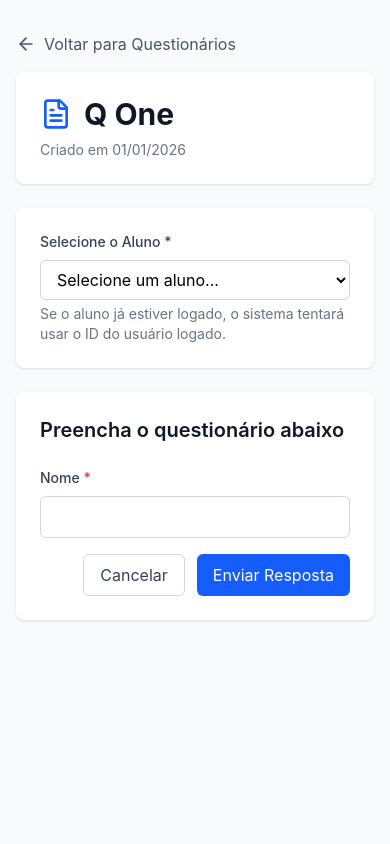
Test case: AnswerQuestionnaire › shows error message on submit failure
Select "Aluno Z (z@y.com)" in the dropdown at [195, 280], box [40,260,350,300]
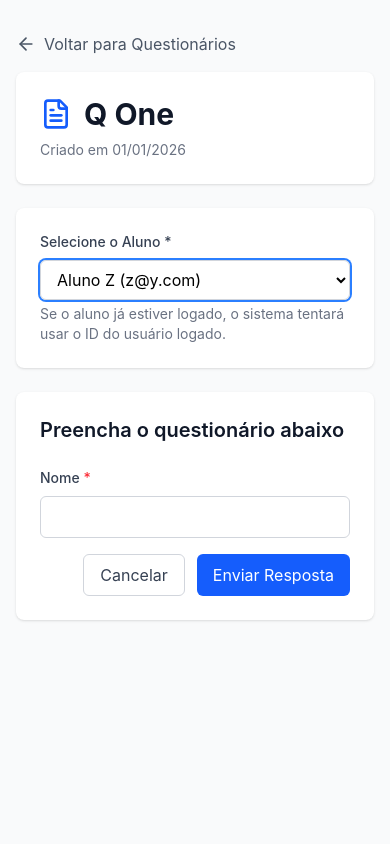
Type "João" into the field.
click(195, 517); type("João")  # box [40,496,350,538]
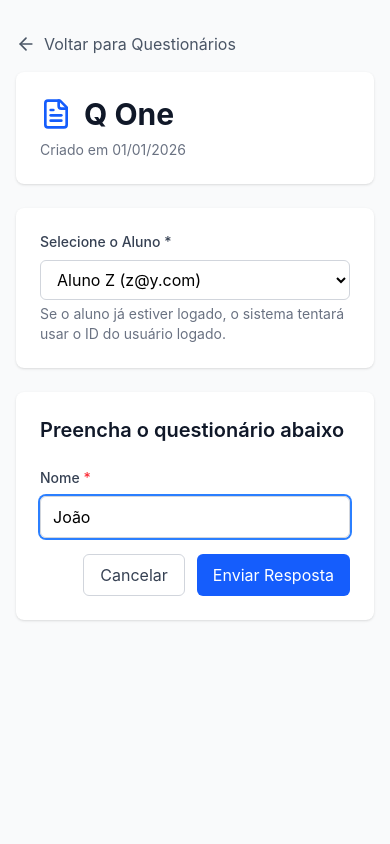
Click the button "Enviar Resposta".
click(273, 575)  # box [197,554,350,596]
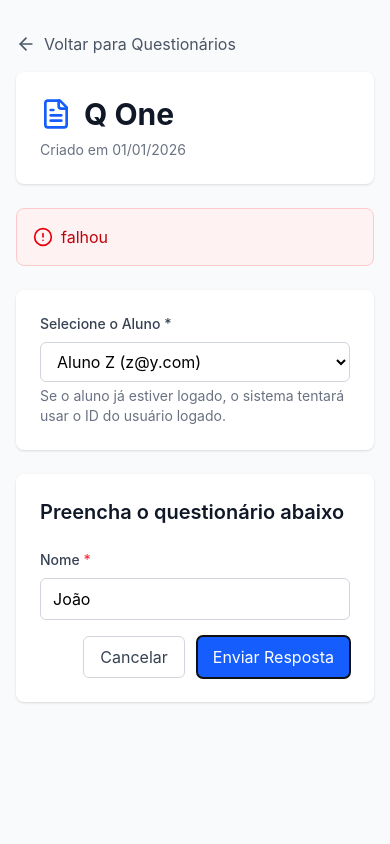
Check: the text "falhou" is shown, box [61,225,108,249]
